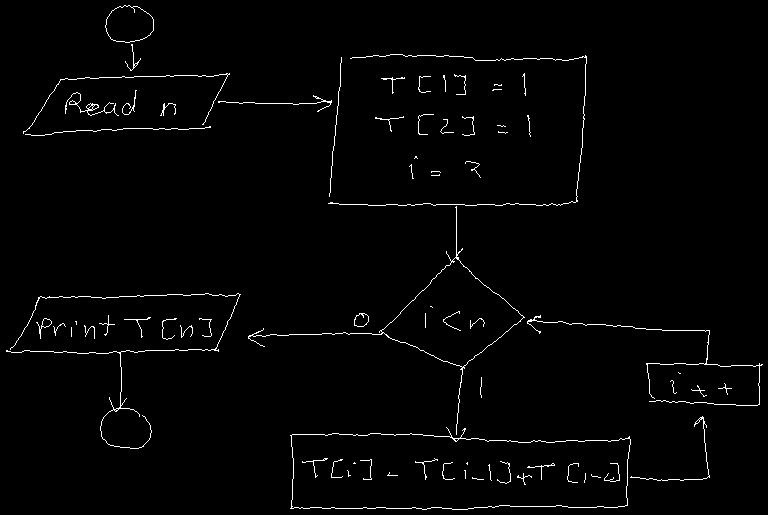arrow: (527, 315, 709, 363), (630, 416, 709, 480), (248, 328, 382, 346), (218, 95, 331, 111), (446, 367, 465, 441), (109, 352, 126, 411), (446, 206, 462, 261), (125, 44, 140, 70)
connection: (100, 408, 151, 448), (105, 5, 153, 42)
data: (6, 293, 240, 353), (23, 73, 229, 135)
decision: (379, 257, 524, 369)
process: (328, 54, 586, 205), (290, 433, 630, 509), (646, 363, 762, 405)
text: (375, 73, 530, 178), (302, 458, 619, 484), (36, 315, 211, 339), (65, 90, 175, 115), (670, 372, 731, 396), (425, 306, 484, 330), (354, 313, 368, 326), (479, 377, 482, 397)
